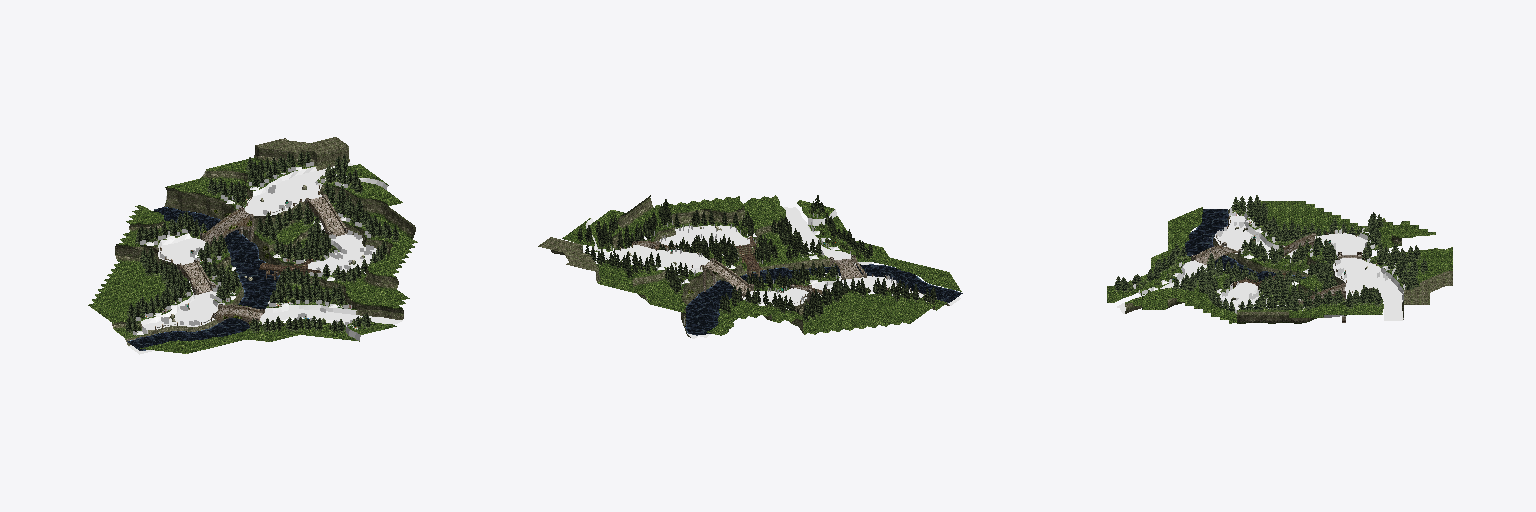
The picture shows the model from 3 angles: view 1: azimuth 30°, elevation 25°; view 2: azimuth 150°, elevation 25°; view 3: azimuth 270°, elevation 25°; orthographic projection.
Parts seen in each view (by area): view 1: Object.565, Object.124, Object.402, Object.400, Object.487, Object.403, Object.463, Object.375, Object.421, Object.499, Object.123, Object.474; view 2: Object.403, Object.400, Object.402, Object.375, Object.577, Object.421, Object.404; view 3: Object.400, Object.375, Object.499.
Part boxes in pixels (left/top/right/bottom): Object.565: left=224, top=234, right=263, bottom=267; Object.124: left=164, top=191, right=209, bottom=215; Object.402: left=104, top=264, right=152, bottom=288; Object.400: left=88, top=289, right=135, bottom=313; Object.487: left=267, top=206, right=328, bottom=245; Object.403: left=117, top=280, right=170, bottom=302; Object.463: left=283, top=269, right=320, bottom=302; Object.375: left=247, top=192, right=293, bottom=215; Object.421: left=337, top=284, right=389, bottom=309; Object.499: left=291, top=234, right=331, bottom=261; Object.123: left=289, top=141, right=347, bottom=158; Object.474: left=135, top=221, right=175, bottom=275; Object.403: left=827, top=296, right=884, bottom=320; Object.400: left=864, top=306, right=921, bottom=326; Object.402: left=806, top=312, right=863, bottom=332; Object.375: left=654, top=250, right=706, bottom=269; Object.577: left=686, top=291, right=730, bottom=313; Object.421: left=749, top=204, right=785, bottom=236; Object.404: left=886, top=295, right=943, bottom=314; Object.400: left=1280, top=201, right=1323, bottom=218; Object.375: left=1333, top=261, right=1382, bottom=281; Object.499: left=1259, top=273, right=1291, bottom=304.
Bounding box in the file's own units: 166 × 33 × 160.
24 materials, 21 textured.